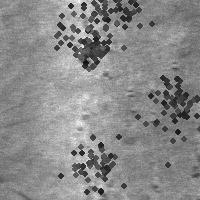rolled-in_scale: (30, 0, 132, 77), (122, 65, 200, 161), (53, 127, 131, 200), (74, 0, 162, 46), (122, 63, 178, 131), (64, 22, 114, 72), (152, 71, 200, 119), (77, 9, 121, 59)
